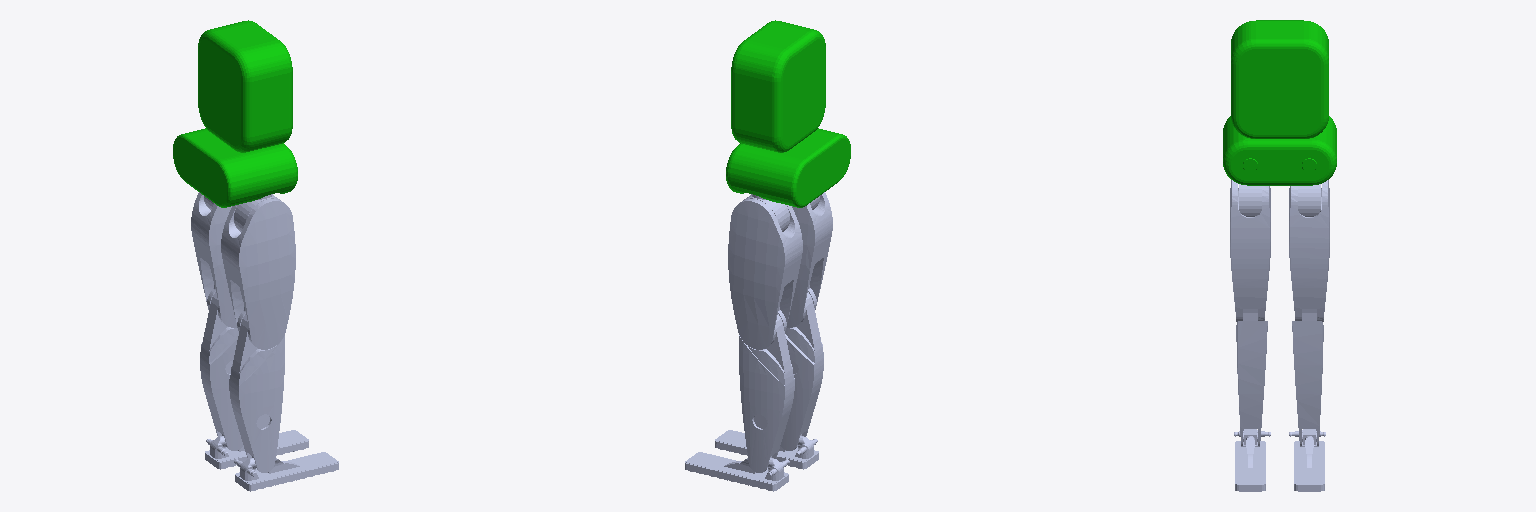
URDF robot description (huiling):
<?xml version="1.0" encoding="utf-8"?>
<!-- This URDF was automatically created by SolidWorks to URDF Exporter! Originally created by [author] ([email redacted]) 
     Commit Version: 1.6.0-1-g15f4949  Build Version: 1.6.7594.29634
     For more information, please see http://wiki.ros.org/sw_urdf_exporter -->
<robot name="huiling">




<!--link name="dummy">
  </link>
  <<joint name="dummy_joint" type="floating"> >
    <joint name="dummy_joint" type="fixed">
    <parent link="dummy"/>
    <child link="BASE"/>
  </joint-->

  <link name="BASE" >
    <inertial>
      <origin
        xyz="0.0201327323201205 2.90248717777167E-07 0.175288616065348"
        rpy="0 0 0" />
      <mass value="10.334" />
      <inertia ixx="0.42679926" ixy="0.31862963E-03" ixz="-0.058264808" iyy="0.37718285" iyz="0.16416043E-03" izz="0.20250344" /> </inertial>
    <visual>
      <origin
        xyz="0 0 0"
        rpy="0 0 0" />
      <geometry>
        <mesh
          filename="../meshes/BASE.STL" />
      </geometry>
      <material
        name="grey">
        <color
          rgba="0.1 0.8 0.1 1" />
      </material>
    </visual>
    <!--collision>
      <origin
        xyz="0 0 0"
        rpy="0 0 0" />
      <geometry>
        <mesh
          filename="../meshes/BASE.STL" />
      </geometry>
    </collision-->
  </link>


  <link
    name="Y1">
    <inertial>
      <origin
        xyz="-1.63204889966212E-05 -7.41820391225723E-09 -7.50723212865958E-05"
        rpy="0 0 0" />
      <mass
        value="1.5702" />
      <inertia
        ixx="1.9082275E-03"
        ixy="-2.9296383E-06"
        ixz="-2.8752249E-05"
        iyy="2.5105633E-03"
        iyz="8.6037224E-06"
        izz="3.3842642E-03" />
    </inertial>
    <visual>
      <origin
        xyz="0 0 0"
        rpy="0 0 0" />
      <geometry>
        <mesh
          filename="../meshes/Y1.STL" />
      </geometry>
      <material
        name="">
        <color
          rgba="0.792156862745098 0.819607843137255 0.933333333333333 1" />
      </material>
    </visual>
    <!--collision>
      <origin
        xyz="0 0 0"
        rpy="0 0 0" />
      <geometry>
        <mesh
          filename="../meshes/Y1.STL" />
      </geometry>
    </collision-->
  </link>
  <joint
    name="JOINT_Y1"
    type="revolute">
    <origin
      xyz="0.0345 -0.075 0"
      rpy="0 0 0" />
    <parent
      link="BASE" />
    <child
      link="Y1" />
    <axis
      xyz="0 0 1" />
    <limit
      upper="0.785"
      lower="-0.523"
      effort="150"
      velocity="12.67" />
  </joint>
  <link
    name="Y2">
    <inertial>
      <origin
        xyz="-1.59488624390525E-09 -1.69933511706688E-13 -0.118946230616269"
        rpy="0 0 0" />
      <mass
        value="1.9703" />
      <inertia
        ixx="4.2529981E-03"
        ixy="-2.1023789E-06"
        ixz="3.2086402E-05"
        iyy="5.4381871E-03"
        iyz="6.3304221E-05"
        izz="2.5836798E-03" />
    </inertial>
    <visual>
      <origin
        xyz="0 0 0"
        rpy="0 0 0" />
      <geometry>
        <mesh
          filename="../meshes/Y2.STL" />
      </geometry>
      <material
        name="">
        <color
          rgba="0.792156862745098 0.819607843137255 0.933333333333333 1" />
      </material>
    </visual>
    <!--collision>
      <origin
        xyz="0 0 0"
        rpy="0 0 0" />
      <geometry>
        <mesh
          filename="../meshes/Y2.STL" />
      </geometry>
    </collision-->
  </link>
  <joint
    name="JOINT_Y2"
    type="revolute">
    <origin
      xyz="0 0 0"
      rpy="0 0 0" />
    <parent
      link="Y1" />
    <child
      link="Y2" />
    <axis
      xyz="1 0 0" />
    <limit
      upper="0.785"
      lower="-0.785"
      effort="150"
      velocity="12.67" />
  </joint>
  <link
    name="Y3">
    <inertial>
      <origin
        xyz="-0.00178880299501844 -1.37818396750422E-07 -0.131404245681857"
        rpy="0 0 0" />
      <mass
        value="4.7531654" />
      <inertia
        ixx="4.4792967E-02"
        ixy="-2.1044489E-05"
        ixz="1.8396972E-03"
        iyy="4.8875103E-02"
        iyz="-8.3584575E-04"
        izz="1.2184107E-02" />
    </inertial>
    <visual>
      <origin
        xyz="0 0 0"
        rpy="0 0 0" />
      <geometry>
        <mesh
          filename="../meshes/Y3.STL" />
      </geometry>
      <material
        name="">
        <color
          rgba="0.792156862745098 0.819607843137255 0.933333333333333 1" />
      </material>
    </visual>
    <collision>
      <origin
        xyz="0 0 -0.12"
        rpy="0 0 0" />
      <geometry>
        <box size="0.08 0.08 0.25"/>
        <!--mesh
          filename="../meshes/Y3.STL" /-->
      </geometry>
    </collision>
  </link>
  <joint
    name="JOINT_Y3"
    type="revolute">
    <origin
      xyz="0 0 -0.126"
      rpy="0 0 0" />
    <parent
      link="Y2" />
    <child
      link="Y3" />
    <axis
      xyz="0 1 0" />
    <limit
      upper="1.204"
      lower="-1.134"
      effort="150"
      velocity="12.67" />
  </joint>
  <link
    name="Y4">
    <inertial>
      <origin
        xyz="-0.00655640262638434 0.00174533101732524 -0.152175311704517"
        rpy="0 0 0" />
     <mass
        value="2.5437487" />
      <inertia
        ixx="3.2659020E-02"
        ixy="-3.1266221E-06"
        ixz="-5.8135652E-04"
        iyy="3.4284603E-02"
        iyz="-1.1642467E-04"
        izz="3.5704361E-03" />
    </inertial>
    <visual>
      <origin
        xyz="0 0 0"
        rpy="0 0 0" />
      <geometry>
        <mesh
          filename="../meshes/Y4.STL" />
      </geometry>
      <material
        name="">
        <color
          rgba="0.792156862745098 0.819607843137255 0.933333333333333 1" />
      </material>
    </visual>
    <collision>
      <origin
        xyz="0 0 -0.2"
        rpy="0 0 0" />
      <geometry>
        <box size="0.05 0.05 0.30"/>
        <!--mesh
          filename="../meshes/Y4.STL" /-->
      </geometry>
    </collision>
  </link>
  <joint
    name="JOINT_Y4"
    type="revolute">
    <origin
      xyz="0 0 -0.3"
      rpy="0 0 0" />
    <parent
      link="Y3" />
    <child
      link="Y4" />
    <axis
      xyz="0 1 0" />
    <limit
      upper="2.268"
      lower="0"
      effort="150"
      velocity="12.67" />
  </joint>
  <link
    name="Y5">
    <inertial>
      <origin
        xyz="-1.22576162275845E-08 1.36553787916105E-07 2.04407889503599E-08"
        rpy="0 0 0" />
      <mass
        value="1.5872253E-01" />
      <inertia
        ixx="3.5301988E-05"
        ixy="-9.93267744599354E-14"
        ixz="1.93160050863537E-14"
        iyy="3.5006921E-05"
        iyz="-1.31006626483571E-14"
        izz="3.9541326E-05" />
    </inertial>
    <visual>
      <origin
        xyz="0 0 0"
        rpy="0 0 0" />
      <geometry>
        <mesh
          filename="../meshes/Y5.STL" />
      </geometry>
      <material
        name="">
        <color
          rgba="0.792156862745098 0.819607843137255 0.933333333333333 1" />
      </material>
    </visual>
    <!--collision>
      <origin
        xyz="0 0 0"
        rpy="0 0 0" />
      <geometry>
        <mesh
          filename="../meshes/Y5.STL" />
      </geometry>
    </collision-->
  </link>
  <joint
    name="JOINT_Y5"
    type="revolute">
    <origin
      xyz="0 0 -0.37"
      rpy="0 0 0" />
    <parent
      link="Y4" />
    <child
      link="Y5" />
    <axis
      xyz="0 1 0" />
    <limit
      upper="0.785"
      lower="-0.785"
      effort="36"
      velocity="8.16" />
  </joint>
  <link
    name="Y6">
    <inertial>
      <origin
        xyz="0.0598388610290919 9.18999240586971E-05 -0.0415390165522792"
        rpy="0 0 0" />
      <mass
        value="1.3435091" />
      <inertia
        ixx="8.9837179E-04"
        ixy="-2.9158502E-05"
        ixz="6.4654577E-04"
        iyy="8.3025962E-03"
        iyz="7.983371E-06"
        izz="8.5554494E-03" />
    </inertial>
    <visual>
      <origin
        xyz="0 0 0"
        rpy="0 0 0" />
      <geometry>
        <mesh
          filename="../meshes/Y6.STL" />
      </geometry>
      <material
        name="">
        <color
          rgba="0.792156862745098 0.819607843137255 0.933333333333333 1" />
      </material>
    </visual>
    <collision>
      <origin
        xyz="0.05 0 -0.04"
        rpy="0 0 0" />
      <geometry>
        <box size="0.24 0.08 0.03"/>
        <!--mesh
          filename="../meshes/Y6.STL" /-->
      </geometry>
    </collision>
  </link>
  <joint
    name="JOINT_Y6"
    type="revolute">
    <origin
      xyz="0 0 0"
      rpy="0 0 0" />
    <parent
      link="Y5" />
    <child
      link="Y6" />
    <axis
      xyz="1 0 0" />
    <limit
      upper="0.35"
      lower="-0.35"
      effort="36"
      velocity="8.16" />
  </joint>






  <link
    name="Z1">
    <inertial>
      <origin
        xyz="-1.63204889966212E-05 -7.41820389837944E-09 -7.50723212865909E-05"
        rpy="0 0 0" />
      <mass
        value="1.5702" />
      <inertia
        ixx="1.9082275E-03"
        ixy="-2.9296383E-06"
        ixz="-2.8752249E-05"
        iyy="2.5105633E-03"
        iyz="8.6037224E-06"
        izz="3.3842642E-03" />
    </inertial>
    <visual>
      <origin
        xyz="0 0 0"
        rpy="0 0 0" />
      <geometry>
        <mesh
          filename="../meshes/Z1.STL" />
      </geometry>
      <material
        name="">
        <color
          rgba="0.792156862745098 0.819607843137255 0.933333333333333 1" />
      </material>
    </visual>
    <!--collision>
      <origin
        xyz="0 0 0"
        rpy="0 0 0" />
      <geometry>
        <mesh
          filename="../meshes/Z1.STL" />
      </geometry>
    </collision-->
  </link>
  <joint
    name="JOINT_Z1"
    type="revolute">
    <origin
      xyz="0.0345 0.075 0"
      rpy="0 0 0" />
    <parent
      link="BASE" />
    <child
      link="Z1" />
    <axis
      xyz="0 0 1" />
    <limit
      upper="0.785"
      lower="-0.523"
      effort="150"
      velocity="12.67" />
  </joint>
  <link
    name="Z2">
    <inertial>
      <origin
        xyz="-1.59488623002746E-09 -1.69947389494496E-13 -0.118946230616269"
        rpy="0 0 0" />
      <mass
        value="1.9703" />
      <inertia
        ixx="4.2529981E-03"
        ixy="-2.1023789E-06"
        ixz="3.2086402E-05"
        iyy="5.4381871E-03"
        iyz="6.3304221E-05"
        izz="2.5836798E-03" />
    </inertial>
    <visual>
      <origin
        xyz="0 0 0"
        rpy="0 0 0" />
      <geometry>
        <mesh
          filename="../meshes/Z2.STL" />
      </geometry>
      <material
        name="">
        <color
          rgba="0.792156862745098 0.819607843137255 0.933333333333333 1" />
      </material>
    </visual>
    <!--collision>
      <origin
        xyz="0 0 0"
        rpy="0 0 0" />
      <geometry>
        <mesh
          filename="../meshes/Z2.STL" />
      </geometry>
    </collision-->
  </link>
  <joint
    name="JOINT_Z2"
    type="revolute">
    <origin
      xyz="0 0 0"
      rpy="0 0 0" />
    <parent
      link="Z1" />
    <child
      link="Z2" />
    <axis
      xyz="1 0 0" />
    <limit
      upper="0.785"
      lower="-0.785"
      effort="150"
      velocity="12.67" />
  </joint>
  <link
    name="Z3">
    <inertial>
      <origin
        xyz="-0.00178904059862272 3.34267093726748E-08 -0.131403474186026"
        rpy="0 0 0" />
      <mass
        value="4.7531654" />
      <inertia
        ixx="4.4792967E-02"
        ixy="-2.1044489E-05"
        ixz="1.8396972E-03"
        iyy="4.8875103E-02"
        iyz="-8.3584575E-04"
        izz="1.2184107E-02" />
    </inertial>
    <visual>
      <origin
        xyz="0 0 0"
        rpy="0 0 0" />
      <geometry>
        <mesh
          filename="../meshes/Z3.STL" />
      </geometry>
      <material
        name="">
        <color
          rgba="0.792156862745098 0.819607843137255 0.933333333333333 1" />
      </material>
    </visual>
    <collision>
      <origin
        xyz="0 0 -0.12"
        rpy="0 0 0" />
      <geometry>
        <box size="0.08 0.08 0.25"/>
        <!--mesh
          filename="../meshes/Z3.STL" /-->
      </geometry>
    </collision>
  </link>
  <joint
    name="JOINT_Z3"
    type="revolute">
    <origin
      xyz="0 0 -0.126"
      rpy="0 0 0" />
    <parent
      link="Z2" />
    <child
      link="Z3" />
    <axis
      xyz="0 1 0" />
    <limit
      upper="1.204"
      lower="-1.134"
      effort="150"
      velocity="12.67" />
  </joint>
  <link
    name="Z4">
    <inertial>
      <origin
        xyz="-0.00655574025690278 -0.00174545271983488 -0.152171012298433"
        rpy="0 0 0" />
      <mass
        value="2.5437487" />
      <inertia
        ixx="3.2659020E-02"
        ixy="-3.1266221E-06"
        ixz="-5.8135652E-04"
        iyy="3.4284603E-02"
        iyz="-1.1642467E-04"
        izz="3.5704361E-03" />
    </inertial>
    <visual>
      <origin
        xyz="0 0 0"
        rpy="0 0 0" />
      <geometry>
        <mesh
          filename="../meshes/Z4.STL" />
      </geometry>
      <material
        name="">
        <color
          rgba="0.792156862745098 0.819607843137255 0.933333333333333 1" />
      </material>
    </visual>
    <collision>
      <origin
        xyz="0 0 -0.2"
        rpy="0 0 0" />
      <geometry>
        <box size="0.05 0.05 0.35"/>
        <!--mesh
          filename="../meshes/Z4.STL" /-->
      </geometry>
    </collision>
  </link>
  <joint
    name="JOINT_Z4"
    type="revolute">
    <origin
      xyz="0 0 -0.3"
      rpy="0 0 0" />
    <parent
      link="Z3" />
    <child
      link="Z4" />
    <axis
      xyz="0 1 0" />
    <limit
      upper="2.268"
      lower="0"
      effort="150"
      velocity="12.67" />
  </joint>
  <link
    name="Z5">
    <inertial>
      <origin
        xyz="-1.22576162553401E-08 -1.36553787916105E-07 -2.04407890613822E-08"
        rpy="0 0 0" />
      <mass
        value="1.5872253E-01" />
      <inertia
        ixx="3.5301988E-05"
        ixy="-9.93267744599354E-14"
        ixz="1.93160050863537E-14"
        iyy="3.5006921E-05"
        iyz="-1.31006626483571E-14"
        izz="3.9541326E-05" />
    </inertial>
    <visual>
      <origin
        xyz="0 0 0"
        rpy="0 0 0" />
      <geometry>
        <mesh
          filename="../meshes/Z5.STL" />
      </geometry>
      <material
        name="">
        <color
          rgba="0.792156862745098 0.819607843137255 0.933333333333333 1" />
      </material>
    </visual>
    <!--collision>
      <origin
        xyz="0 0 0"
        rpy="0 0 0" />
      <geometry>
        <mesh
          filename="../meshes/Z5.STL" />
      </geometry>
    </collision-->
  </link>
  <joint
    name="JOINT_Z5"
    type="revolute">
    <origin
      xyz="0 0 -0.37"
      rpy="0 0 0" />
    <parent
      link="Z4" />
    <child
      link="Z5" />
    <axis
      xyz="0 1 0" />
    <limit
      upper="0.785"
      lower="-0.785"
      effort="36"
      velocity="8.16" />
  </joint>
  <link
    name="Z6">
    <inertial>
      <origin
        xyz="0.0598387903905964 -9.168847803738E-05 -0.0415389534692246"
        rpy="0 0 0" />
      <mass
        value="1.3435091" />
      <inertia
        ixx="8.9837179E-04"
        ixy="-2.9158502E-05"
        ixz="6.4654577E-04"
        iyy="8.3025962E-03"
        iyz="7.983371E-06"
        izz="8.5554494E-03" />
    </inertial>
    <visual>
      <origin
        xyz="0 0 0"
        rpy="0 0 0" />
      <geometry>
        <mesh
          filename="../meshes/Z6.STL" />
      </geometry>
      <material
        name="">
        <color
          rgba="0.792156862745098 0.819607843137255 0.933333333333333 1" />
      </material>
    </visual>
    <collision>
      <origin
        xyz="0.05 0 -0.04"
        rpy="0 0 0" />
      <geometry>
        <box size="0.24 0.08 0.03"/>
        <!--mesh
          filename="../meshes/Z6.STL" /-->
      </geometry>
    </collision>
  </link>
  <joint
    name="JOINT_Z6"
    type="revolute">
    <origin
      xyz="0 0 0"
      rpy="0 0 0" />
    <parent
      link="Z5" />
    <child
      link="Z6" />
    <axis
      xyz="1 0 0" />
    <limit
      upper="0.35"
      lower="-0.35"
      effort="36"
      velocity="8.16" />
  </joint>
</robot>

--- Facts derived from the render (not from the file) ---
The picture shows the robot from 3 angles, left to right: view 1: azimuth 30°, elevation 25°; view 2: azimuth 150°, elevation 25°; view 3: azimuth 270°, elevation 25°; orthographic projection.
Robot: huiling — 13 links, 12 joints (12 revolute); root link BASE; default pose: every joint at zero.
Visible links, largest first — view 1: BASE, Y3, Y4, Z4, Z3, Y6, Z6; view 2: BASE, Z3, Z4, Y4, Y3, Z6, Y6; view 3: BASE, Y3, Z3, Y4, Z4, Y6, Z6, Y2, Z2.
Boxes of the visible links, x1=… form: BASE: x1=173, y1=20, x2=297, y2=207; Y3: x1=221, y1=199, x2=295, y2=349; Y4: x1=229, y1=314, x2=284, y2=472; Z4: x1=200, y1=292, x2=243, y2=450; Z3: x1=191, y1=192, x2=236, y2=327; Y6: x1=234, y1=452, x2=338, y2=491; Z6: x1=205, y1=430, x2=308, y2=469; BASE: x1=726, y1=20, x2=850, y2=207; Z3: x1=728, y1=199, x2=802, y2=349; Z4: x1=739, y1=314, x2=794, y2=472; Y4: x1=780, y1=292, x2=823, y2=450; Y3: x1=787, y1=192, x2=832, y2=327; Z6: x1=685, y1=452, x2=789, y2=491; Y6: x1=715, y1=430, x2=818, y2=469; BASE: x1=1223, y1=20, x2=1336, y2=185; Y3: x1=1230, y1=180, x2=1270, y2=321; Z3: x1=1289, y1=180, x2=1329, y2=321; Y4: x1=1236, y1=309, x2=1267, y2=446; Z4: x1=1292, y1=309, x2=1323, y2=446; Y6: x1=1234, y1=430, x2=1270, y2=491; Z6: x1=1289, y1=430, x2=1325, y2=491; Y2: x1=1239, y1=184, x2=1261, y2=216; Z2: x1=1298, y1=184, x2=1320, y2=216.
Size in the robot's own frame: 0.3383 by 0.29 by 1.2 metres.
Meshes: 13 distinct files referenced, 13 mesh visuals loaded (13 binary STL).
